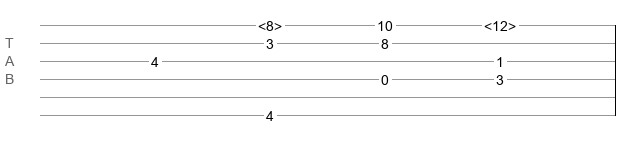0: (381, 72, 389, 82)
1: (496, 54, 504, 64)
10: (377, 18, 393, 28)
3: (266, 36, 274, 46), (496, 72, 504, 82)
4: (151, 54, 159, 64), (266, 108, 274, 118)
8: (381, 36, 389, 46)
harmonic: (484, 18, 516, 28), (258, 18, 282, 28)
